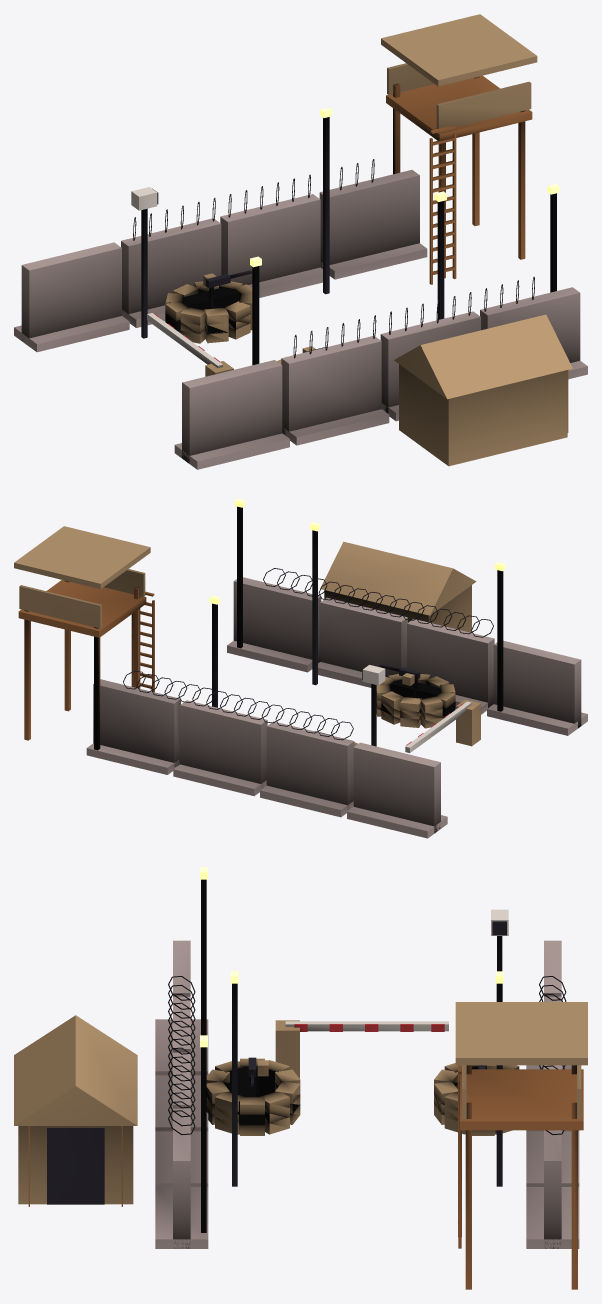
The model's file is kit.army-checkpoint.lod1.glb.
3 renders of one model, top to bottom at view 1: azimuth 30°, elevation 25°; view 2: azimuth 150°, elevation 25°; view 3: azimuth 270°, elevation 25°, orthographic. The views are drawn at different scales.
Parts seen in each view (by area): view 1: body, gateArm; view 2: body, gateArm; view 3: body, gateArm.
Part boxes in pixels (x1=…): body: x1=14, y1=14, x2=587, y2=469; gateArm: x1=147, y1=313, x2=222, y2=367; body: x1=14, y1=506, x2=587, y2=838; gateArm: x1=405, y1=701, x2=471, y2=752; body: x1=14, y1=879, x2=587, y2=1289; gateArm: x1=285, y1=1021, x2=448, y2=1031.
Size of the model in its own units: 14.2 by 5.89 by 13.
